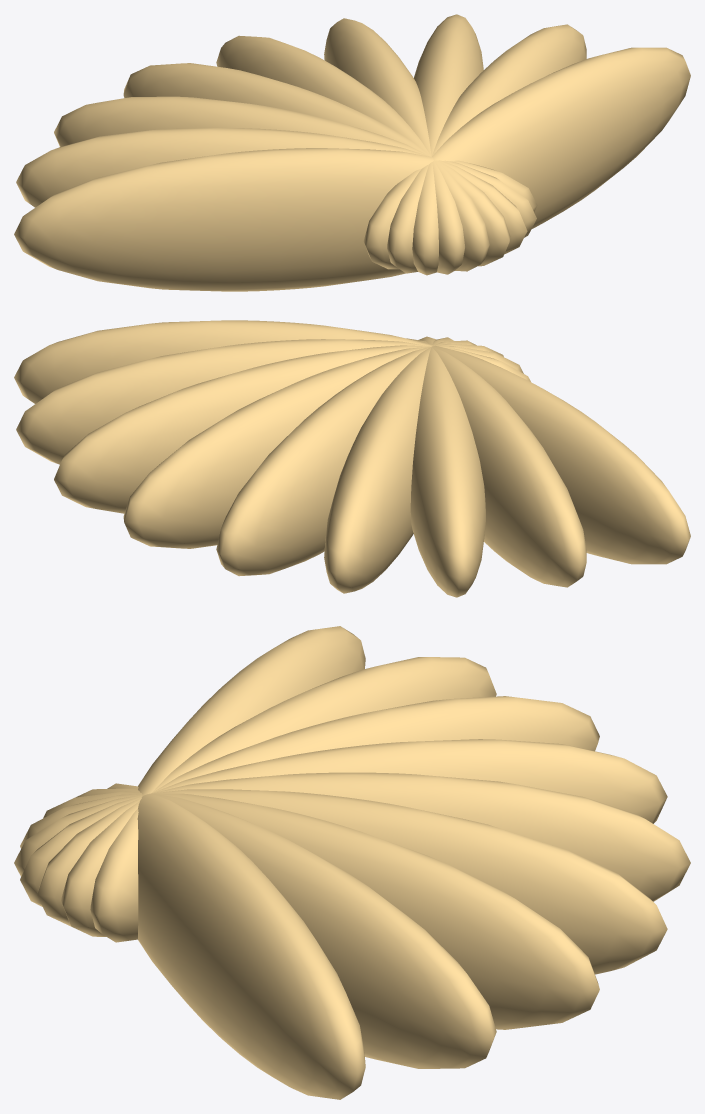
File: shell.glb
3 views of the same model, one above another, from view 1: azimuth 30°, elevation 25°; view 2: azimuth 150°, elevation 25°; view 3: azimuth 270°, elevation 25° (orthographic). The views are drawn at different scales.
Parts seen in each view (by area): view 1: Reef_ShellRib, Reef_ShellRib.008, Reef_ShellRib.001, Reef_ShellRib.002, Reef_ShellRib.003, Reef_ShellRib.004, Reef_ShellRib.007, Reef_ShellRib.005, Reef_ShellRib.006; view 2: Reef_ShellRib, Reef_ShellRib.005, Reef_ShellRib.004, Reef_ShellRib.006, Reef_ShellRib.001, Reef_ShellRib.003, Reef_ShellRib.007, Reef_ShellRib.002, Reef_ShellRib.008; view 3: Reef_ShellRib.008, Reef_ShellRib.007, Reef_ShellRib.006, Reef_ShellRib.005, Reef_ShellRib.004, Reef_ShellRib.003, Reef_ShellRib.002, Reef_ShellRib, Reef_ShellRib.001.
Boxes of the visible parts, x1,y1,x2,y2 form: Reef_ShellRib: (14,148,537,291); Reef_ShellRib.008: (363,47,690,269); Reef_ShellRib.001: (16,128,536,237); Reef_ShellRib.002: (54,96,527,254); Reef_ShellRib.003: (123,63,510,266); Reef_ShellRib.004: (216,35,489,271); Reef_ShellRib.007: (387,24,586,273); Reef_ShellRib.005: (324,18,464,274); Reef_ShellRib.006: (412,14,483,275); Reef_ShellRib: (432,345,690,564); Reef_ShellRib.005: (123,343,503,548); Reef_ShellRib.004: (216,340,476,576); Reef_ShellRib.006: (54,345,523,513); Reef_ShellRib.001: (406,338,586,587); Reef_ShellRib.003: (324,337,454,593); Reef_ShellRib.007: (16,339,530,464); Reef_ShellRib.002: (410,336,485,597); Reef_ShellRib.008: (14,320,433,403); Reef_ShellRib.008: (107,783,365,1099); Reef_ShellRib.007: (75,788,496,1068); Reef_ShellRib.006: (43,791,599,1029); Reef_ShellRib.005: (20,789,667,974); Reef_ShellRib.004: (14,772,690,901); Reef_ShellRib.003: (20,739,667,906); Reef_ShellRib.002: (37,696,599,926); Reef_ShellRib: (90,626,365,942); Reef_ShellRib.001: (61,657,496,936).
Size of the model in its own units: 1.24 by 0.24 by 0.84.
